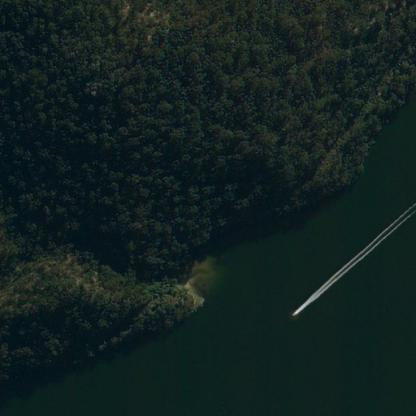ship: (290, 311, 293, 314)
